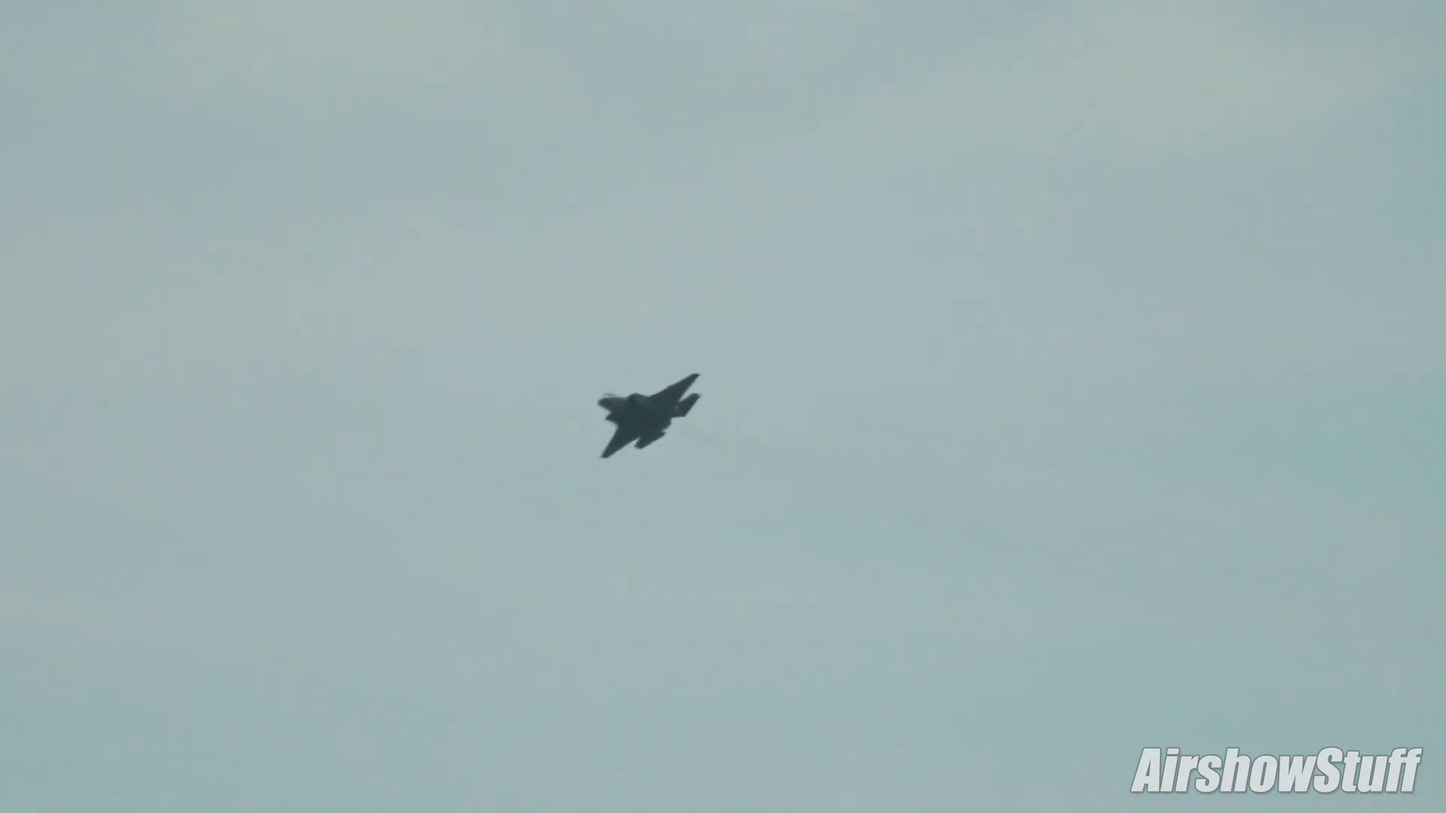F35: (583, 366, 711, 473)
